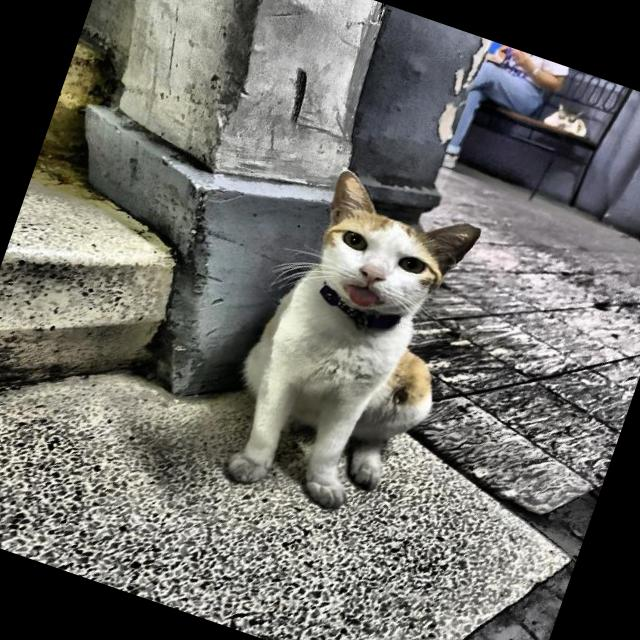Healthy skin: (286, 326, 421, 436)
